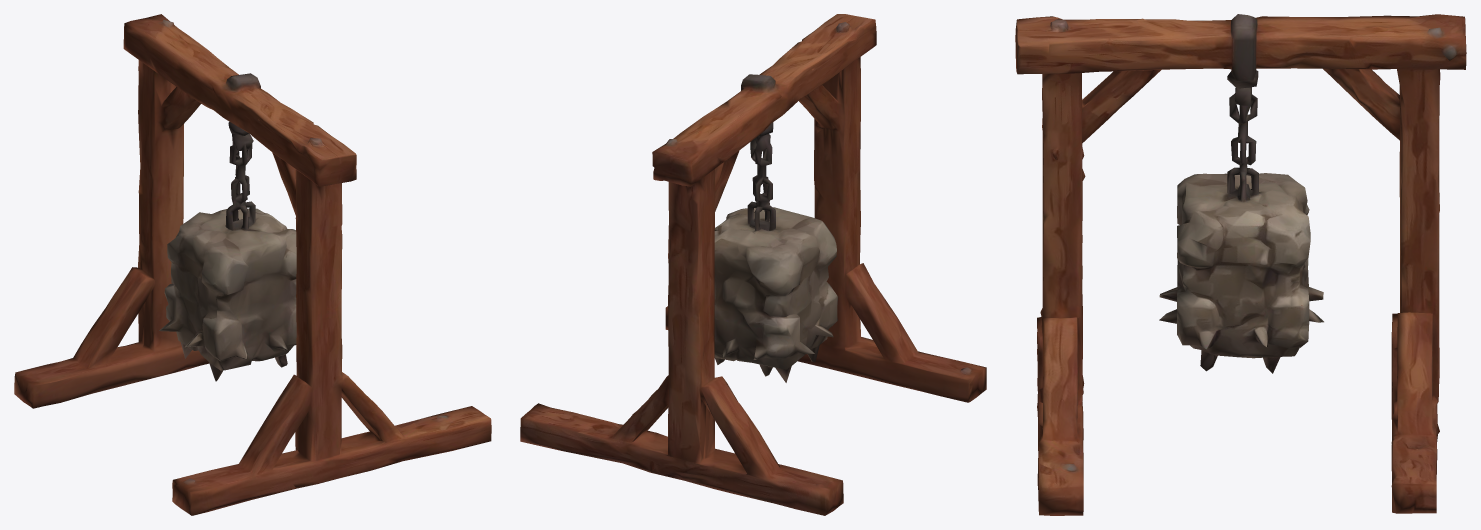
Rendered from crusher.glb.
3 views of the same model, side by side, from view 1: azimuth 30°, elevation 25°; view 2: azimuth 150°, elevation 25°; view 3: azimuth 270°, elevation 25° (orthographic). The views are drawn at different scales.
Parts seen in each view (by area): view 1: tripo_node_7ee7c355-ec7e-4964-bbdd-4a87d3c0a47d; view 2: tripo_node_7ee7c355-ec7e-4964-bbdd-4a87d3c0a47d; view 3: tripo_node_7ee7c355-ec7e-4964-bbdd-4a87d3c0a47d.
Part boxes in pixels (x1=…): tripo_node_7ee7c355-ec7e-4964-bbdd-4a87d3c0a47d: x1=14, y1=14, x2=491, y2=515; tripo_node_7ee7c355-ec7e-4964-bbdd-4a87d3c0a47d: x1=520, y1=14, x2=986, y2=515; tripo_node_7ee7c355-ec7e-4964-bbdd-4a87d3c0a47d: x1=1015, y1=14, x2=1466, y2=515.
Size of the model in its own units: 0.9339 by 0.9946 by 1.
1 material, 1 textured.
